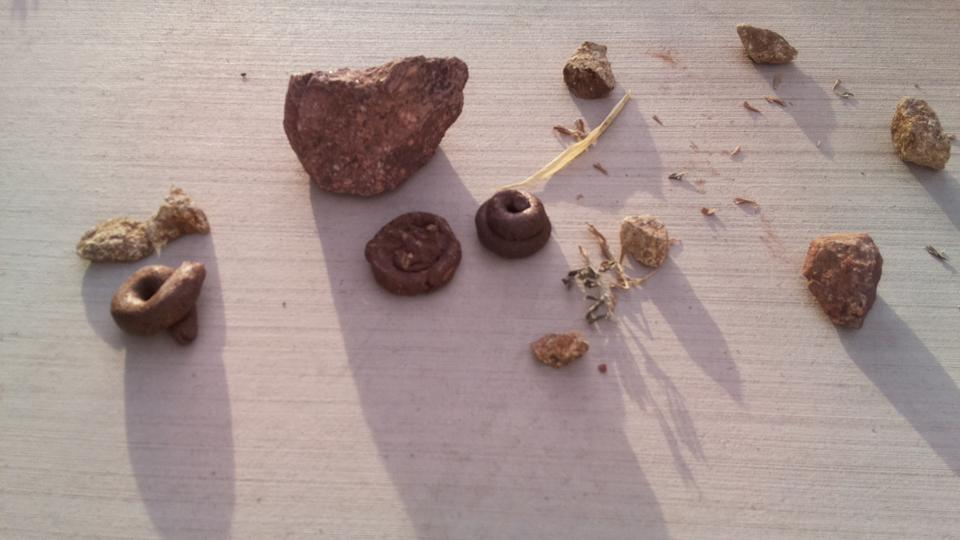poop: (106, 258, 217, 351), (362, 208, 464, 300), (471, 182, 557, 257)
